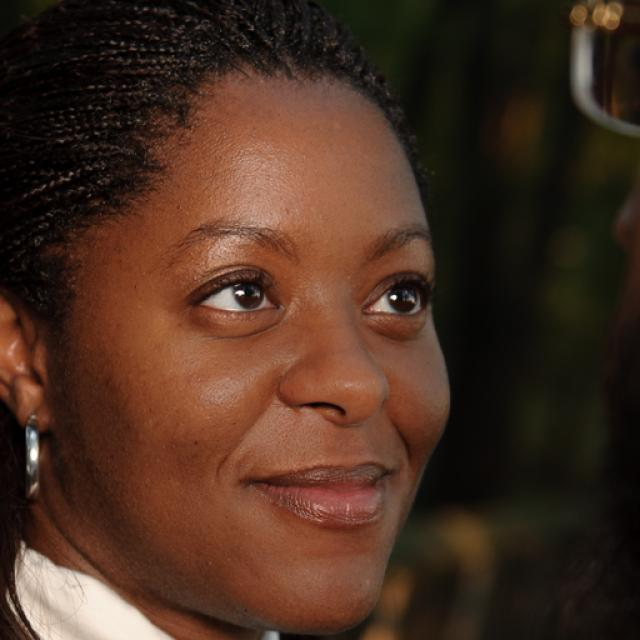happy: (68, 82, 450, 618)
